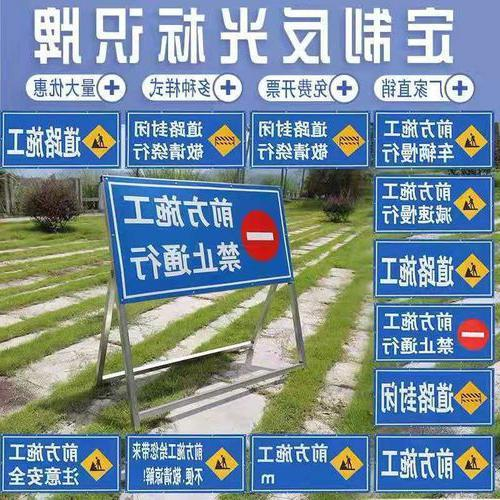sign: (106, 176, 293, 304), (375, 367, 492, 426), (373, 112, 492, 168), (375, 241, 493, 297), (128, 435, 245, 491), (253, 111, 369, 167), (2, 112, 120, 167), (376, 304, 492, 359), (376, 436, 494, 490), (127, 113, 244, 167), (253, 436, 370, 490), (376, 176, 492, 230), (2, 436, 119, 489)
